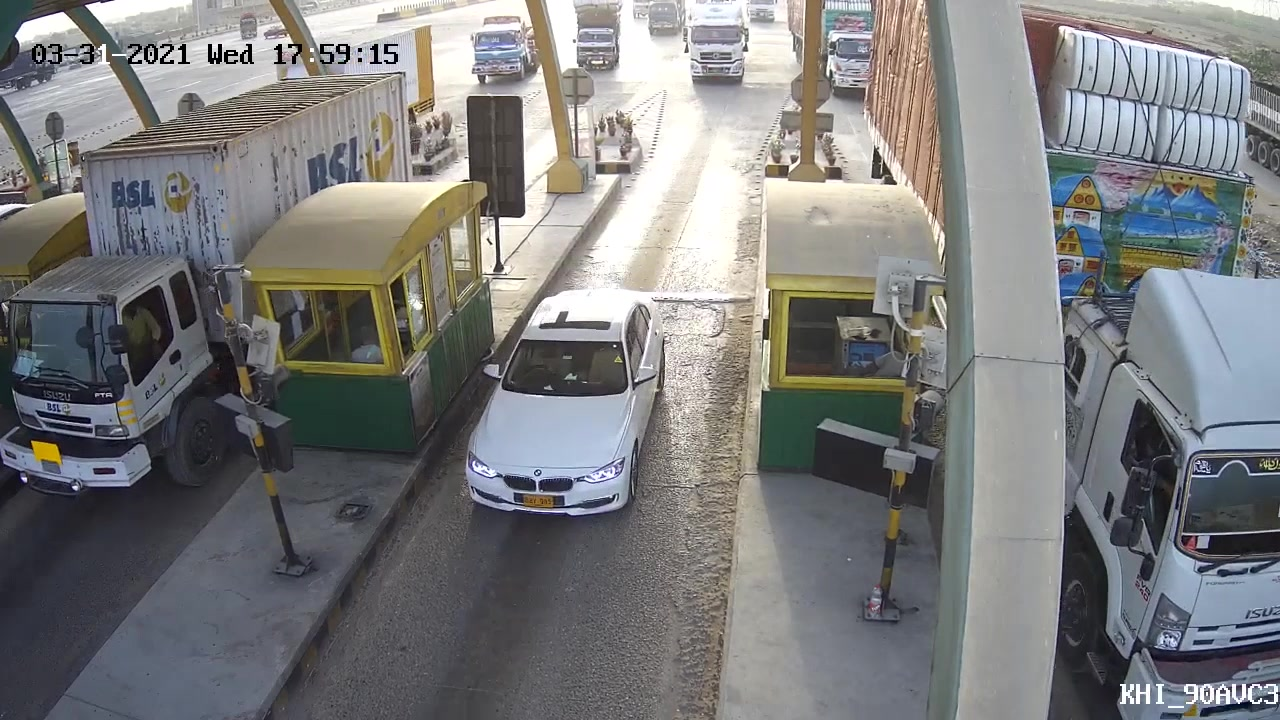F1: (449, 280, 683, 523)
